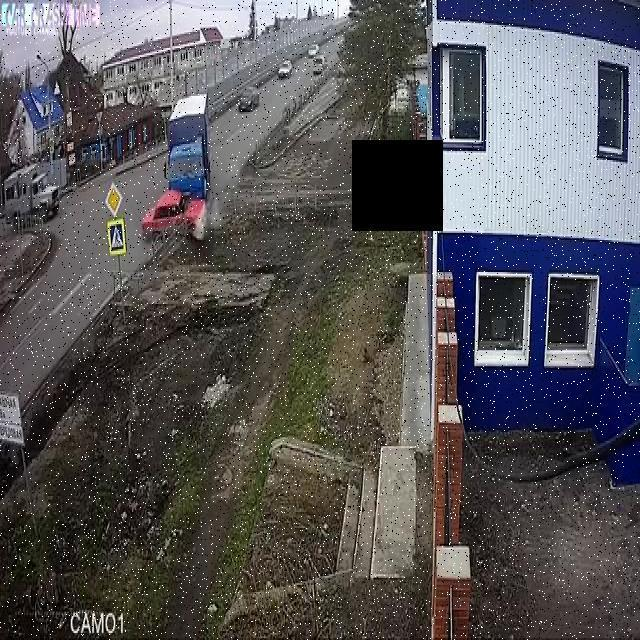accident: (140, 89, 216, 244)
